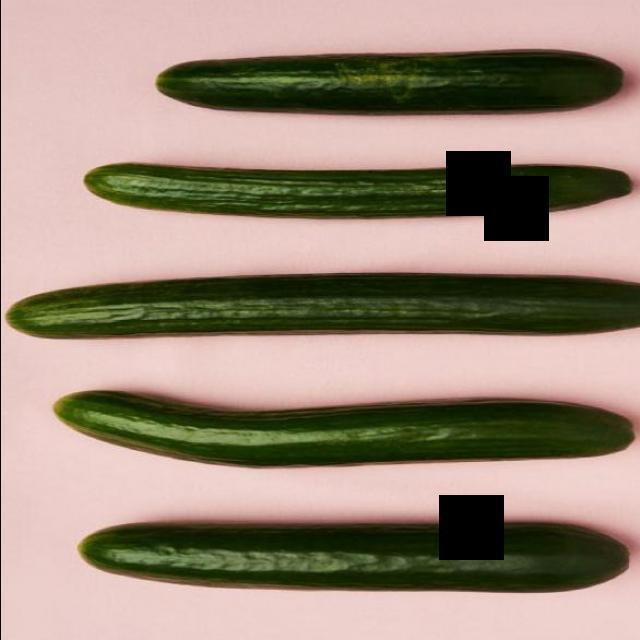cucumber: (48, 389, 640, 473), (1, 268, 640, 344), (75, 520, 632, 596), (76, 160, 640, 222), (150, 47, 630, 116)
